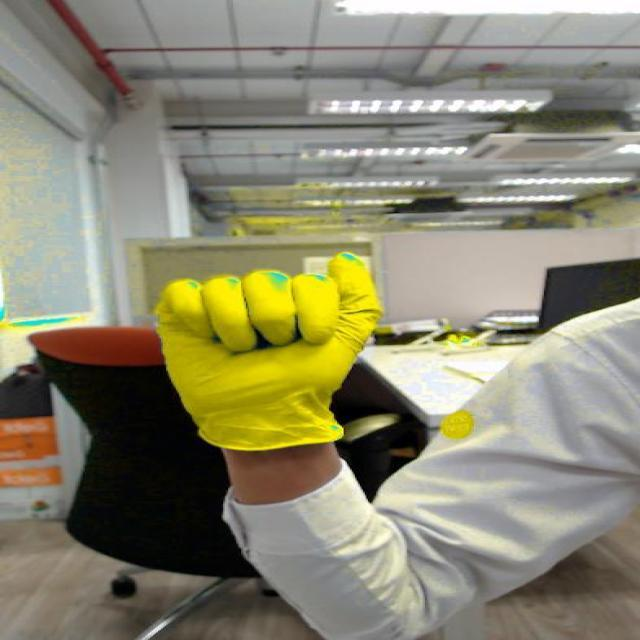gloved_hand: (137, 240, 407, 399)
